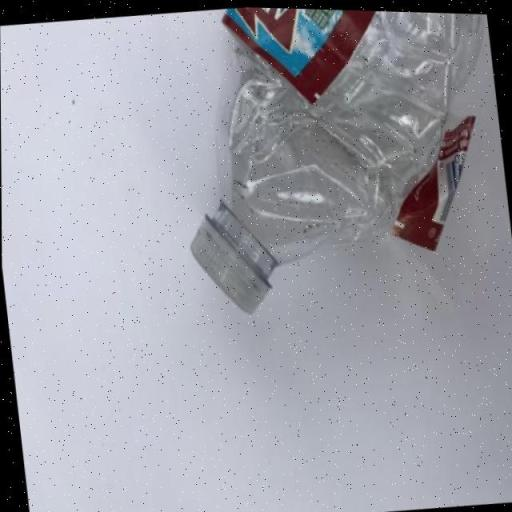plastic: (161, 3, 512, 322)
